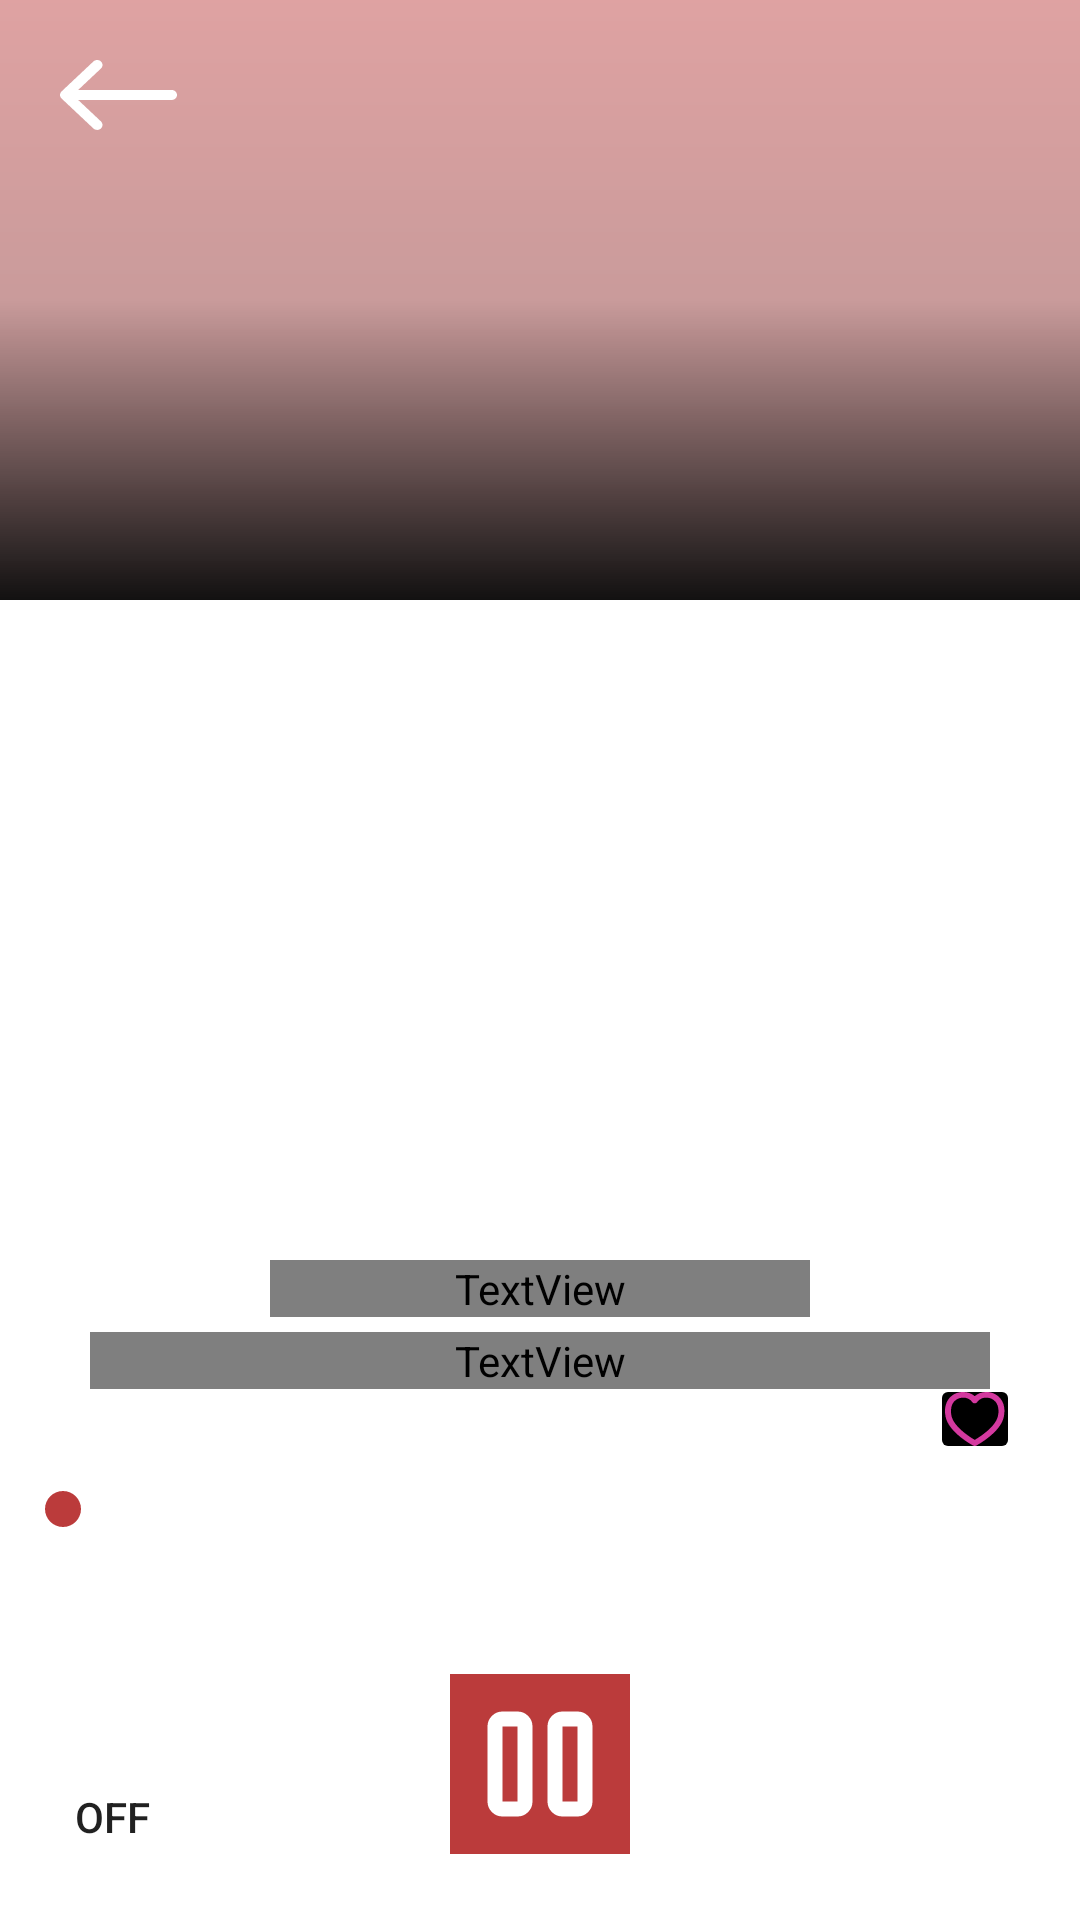

Icons on this 1080×1920 Android screen, each with its box as (x1, y1, x2, y2):
arrowleft: (60, 60, 177, 130)
pause: (450, 1674, 630, 1854)
